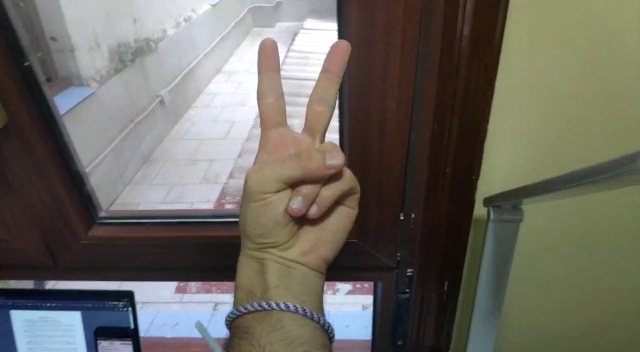Peace: (234, 30, 365, 251)
